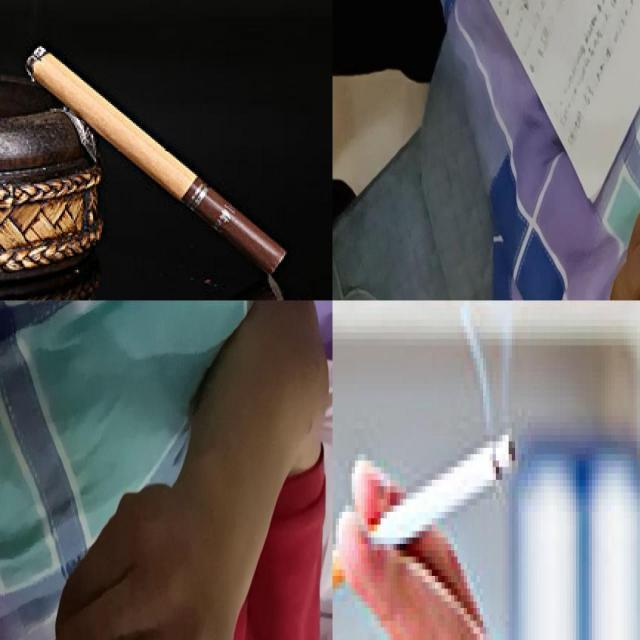smoke: (26, 43, 286, 273), (332, 432, 516, 590)
